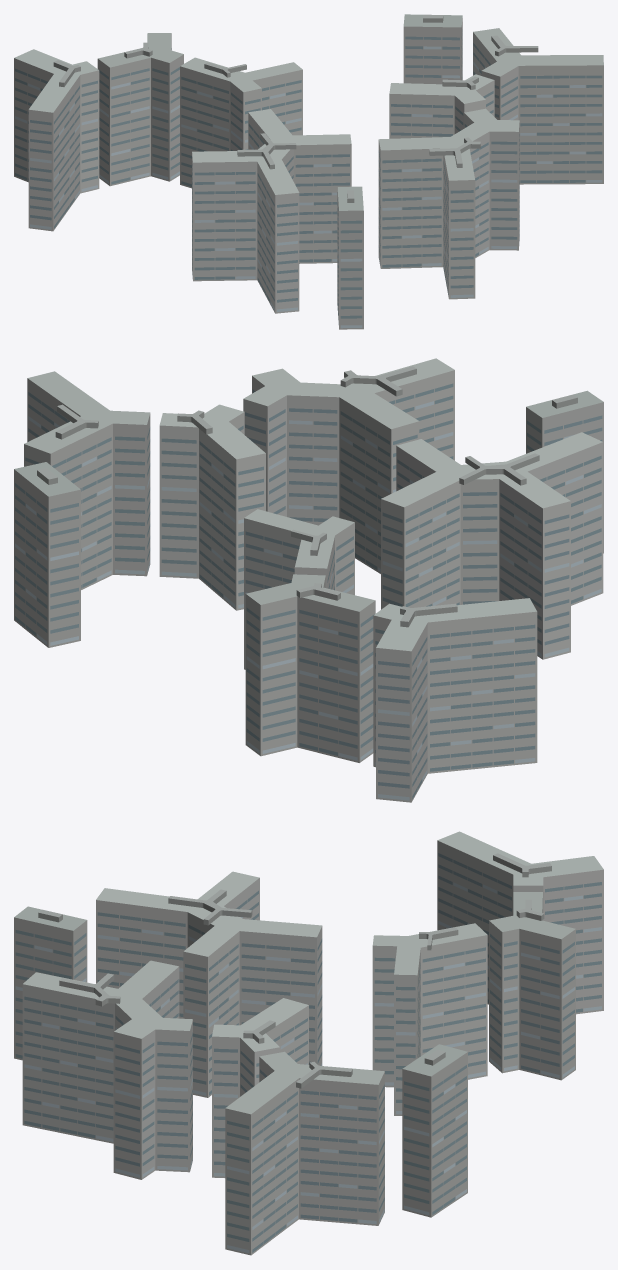
File: apt-a15101506.glb
3 renders of one model, top to bottom at view 1: azimuth 30°, elevation 25°; view 2: azimuth 150°, elevation 25°; view 3: azimuth 270°, elevation 25°, orthographic. The views are drawn at different scales.
Visible parts, largest first — view 1: apt-a15101506; view 2: apt-a15101506; view 3: apt-a15101506.
Part boxes in pixels (box(x1,y1,x2,y2)): apt-a15101506: box(14, 14, 603, 329); apt-a15101506: box(14, 358, 603, 802); apt-a15101506: box(14, 831, 603, 1255).
Bounding box in the file's own units: 282 × 68 × 249.
